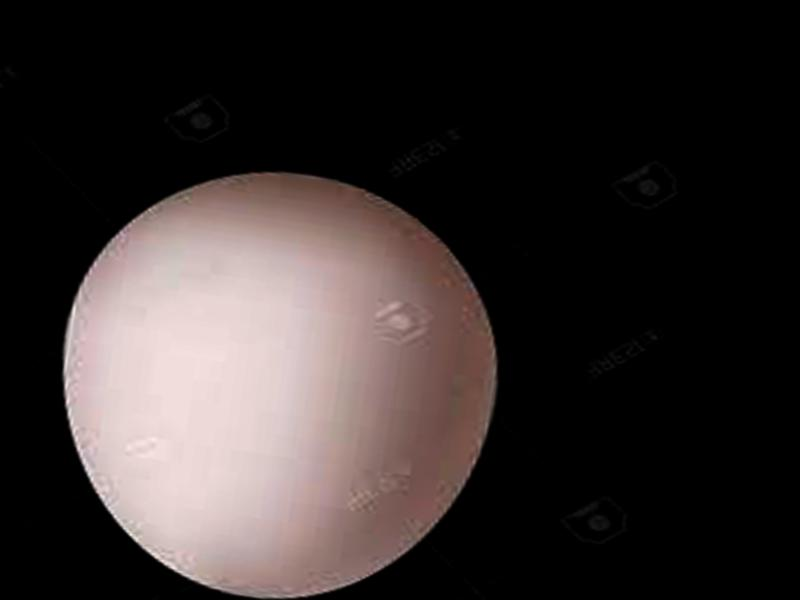Eggs: (33, 145, 517, 600)
